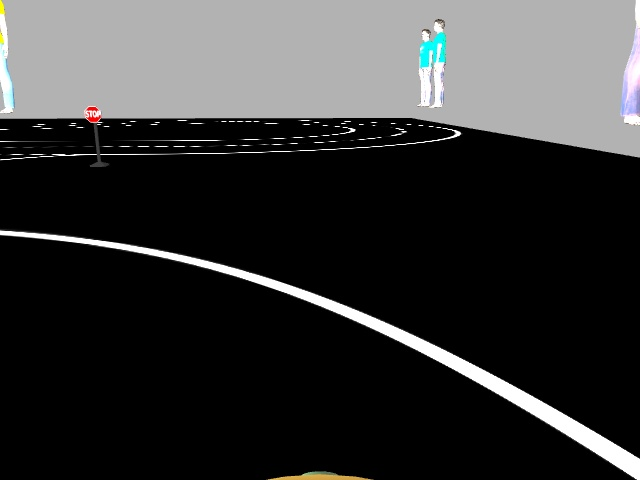Stop: (84, 105, 102, 123)
